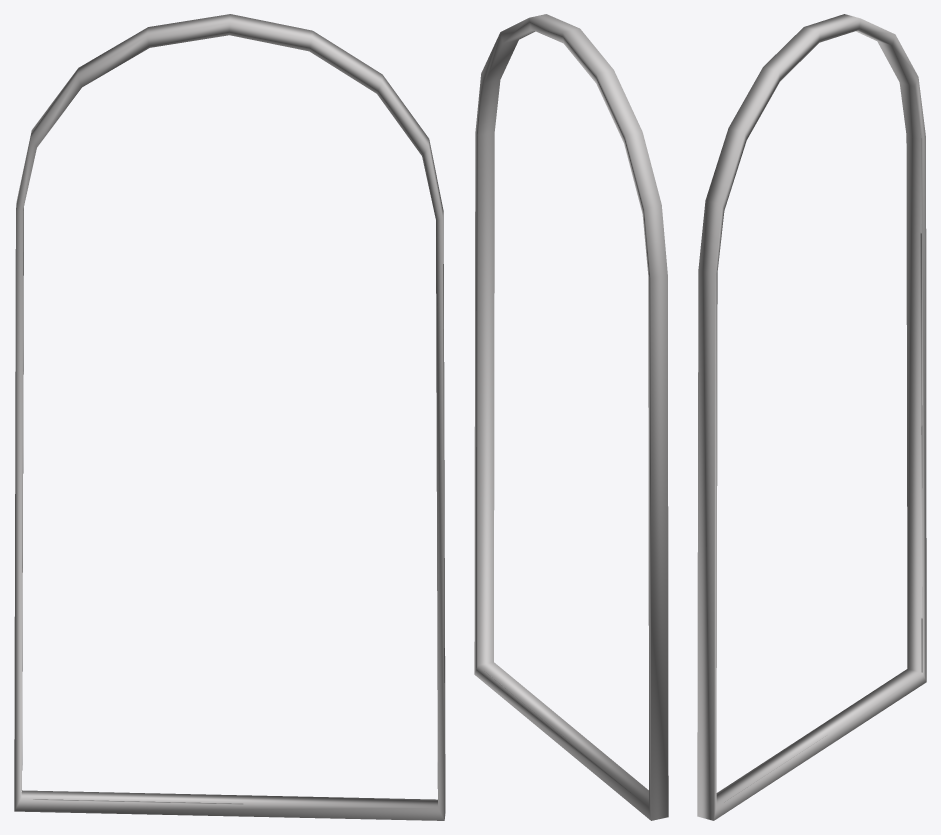
The model's file is bowdleftw.obj.
3 views of the same model, side by side, from view 1: azimuth 30°, elevation 25°; view 2: azimuth 150°, elevation 25°; view 3: azimuth 270°, elevation 25° (orthographic). The views are drawn at different scales.
Parts seen in each view (by area): view 1: polySurface204; view 2: polySurface204; view 3: polySurface204.
Boxes of the visible parts, x1,y1,x2,y2 form: polySurface204: (14,14,445,820); polySurface204: (474,14,668,820); polySurface204: (697,14,926,820).
Bounding box in the file's own units: 86.05 × 202 × 58.23.
Materials: 1 (1 with a texture image).
